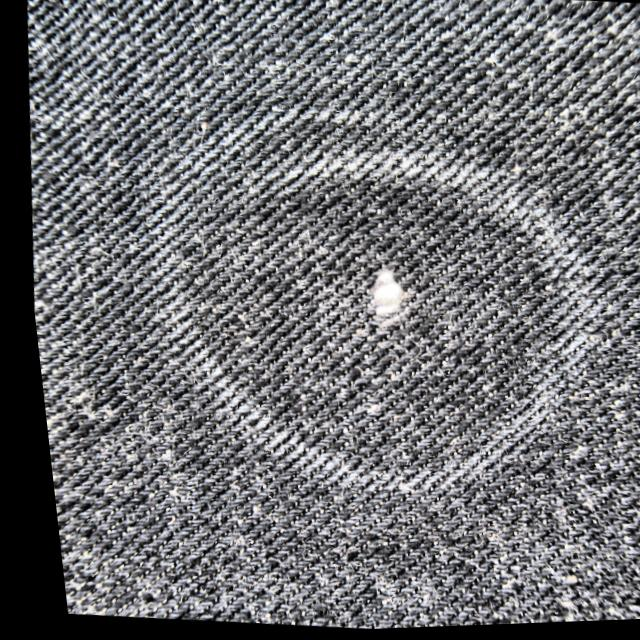Hole: (362, 272, 400, 325)
